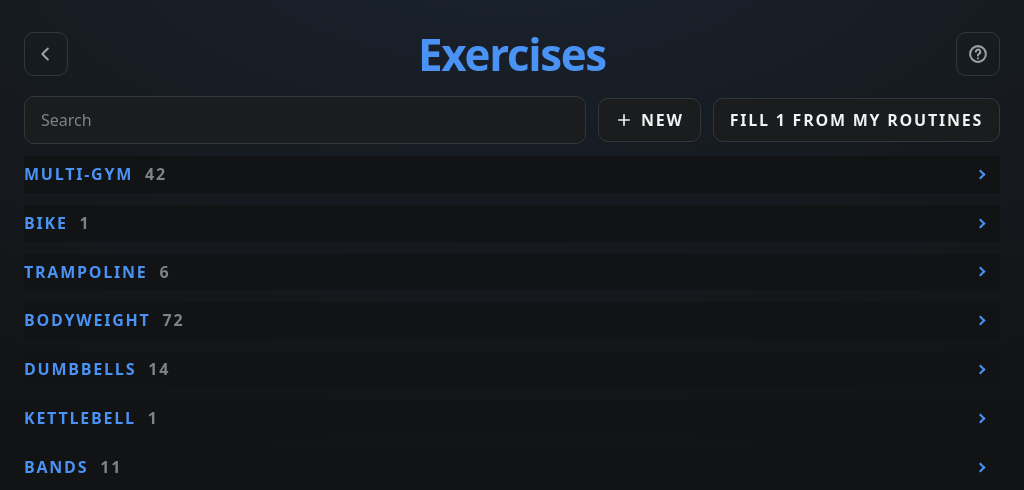
Test: ExercisesScreen › offers what the saved routines already use, and fills it in
Click the button "Fill 1 from my routines" at point(856, 120), box [713,98,1000,142]
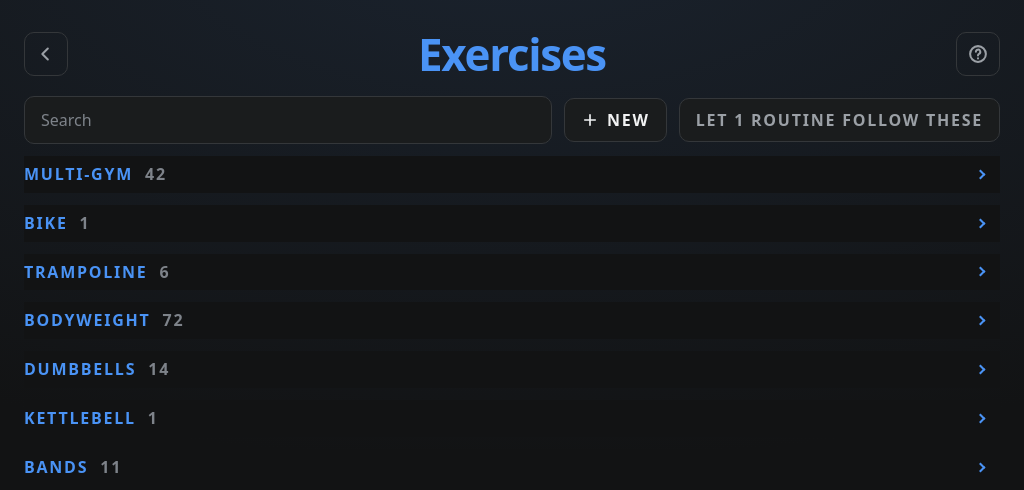
expect the button "from my routines" is gone: met
